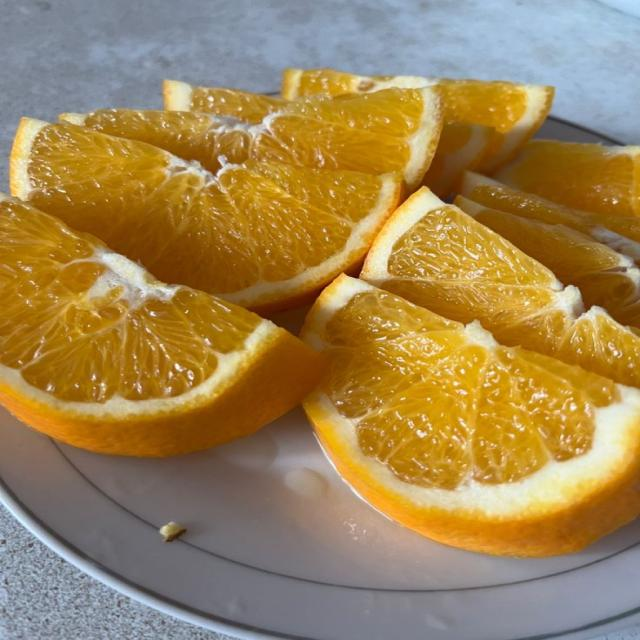orange: (303, 276, 639, 556), (0, 196, 322, 456), (11, 119, 402, 310), (361, 188, 639, 386), (83, 87, 442, 190), (282, 69, 553, 171), (455, 196, 639, 326), (460, 172, 639, 262), (494, 140, 639, 215), (423, 122, 494, 197), (164, 80, 287, 123)
